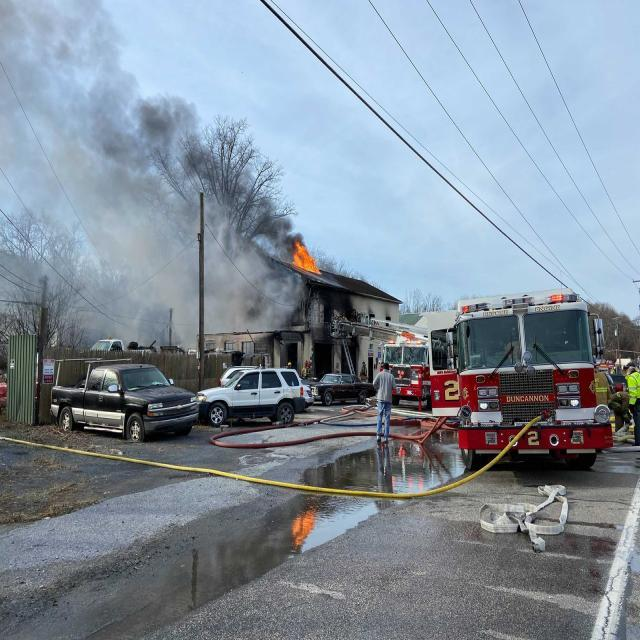Smoke: (81, 188, 272, 334), (5, 10, 104, 164)
